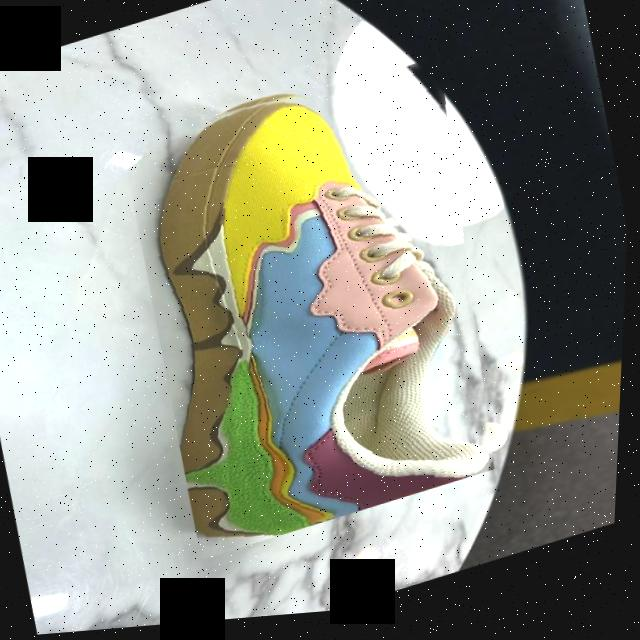shoe: (108, 42, 536, 569)
